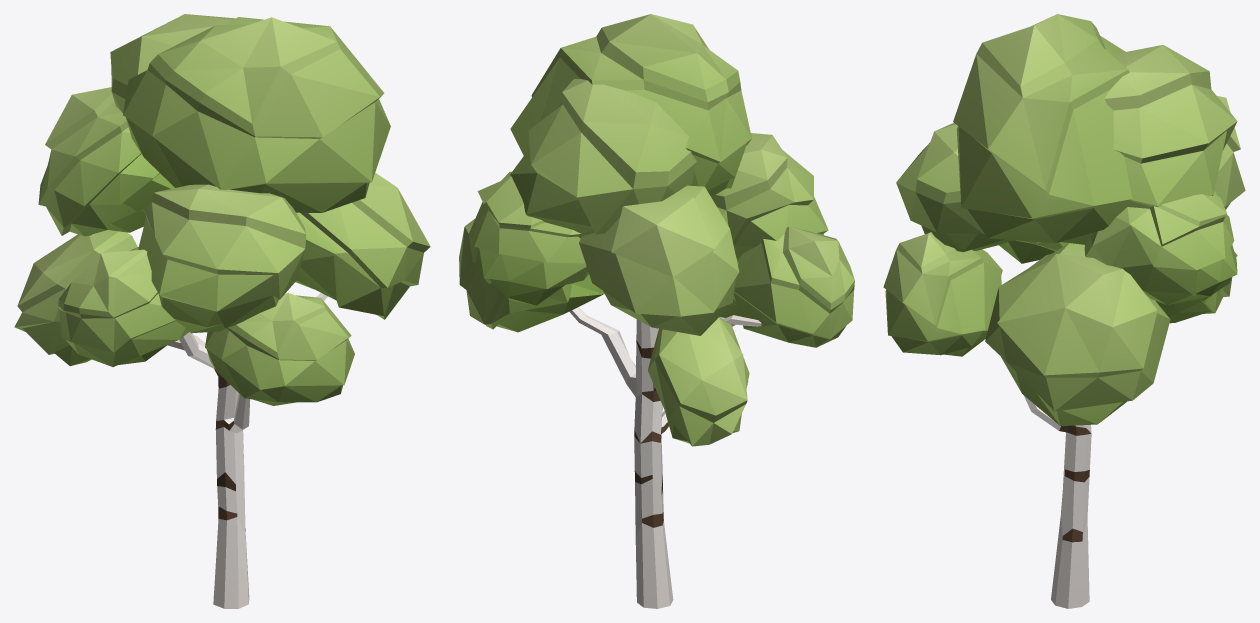
File: TreeBirchLight.fbx
3 renders of one model, left to right at view 1: azimuth 30°, elevation 25°; view 2: azimuth 150°, elevation 25°; view 3: azimuth 270°, elevation 25°, orthographic. The views are drawn at different scales.
Parts seen in each view (by area): view 1: TreeBirchLight_LOD0; view 2: TreeBirchLight_LOD0; view 3: TreeBirchLight_LOD0.
Boxes of the visible parts, x1,y1,x2,y2 form: TreeBirchLight_LOD0: (14, 14, 430, 608); TreeBirchLight_LOD0: (459, 14, 854, 608); TreeBirchLight_LOD0: (883, 14, 1245, 608).
Size of what is drawn, in the model's own units: 510 by 776 by 434.
